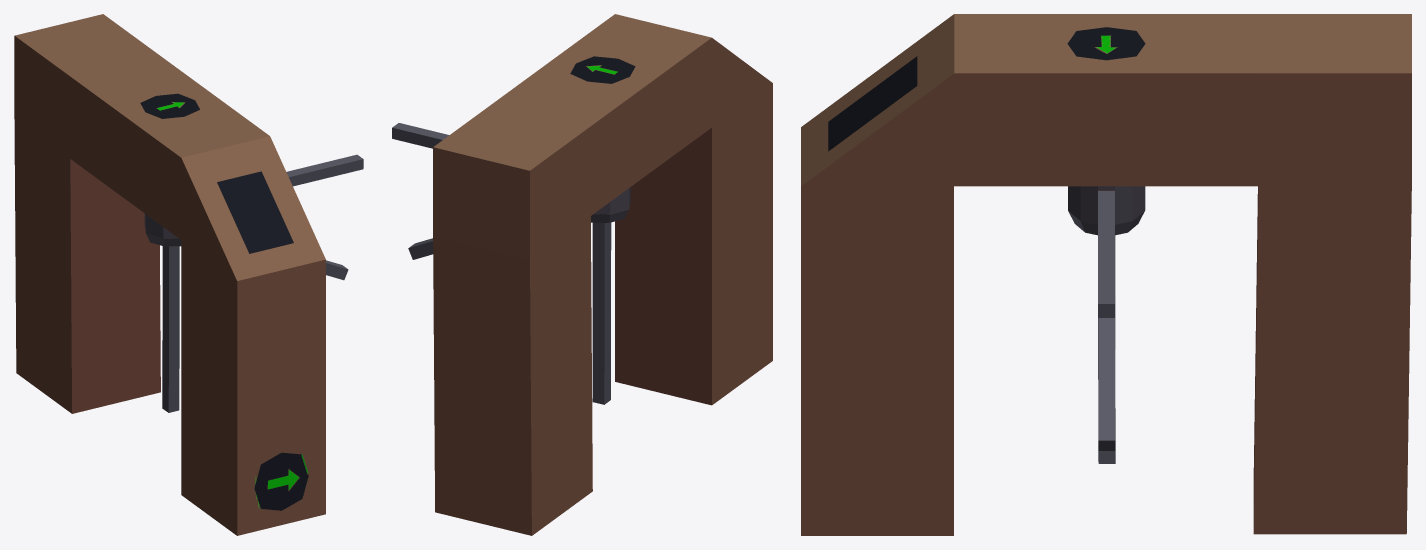
File: Portal.fbx
The picture shows the model from 3 angles, left to right: view 1: azimuth 30°, elevation 25°; view 2: azimuth 150°, elevation 25°; view 3: azimuth 270°, elevation 25°; orthographic projection. The views are drawn at different scales.
Visible parts, largest first — view 1: Cube; view 2: Cube; view 3: Cube.
Boxes of the visible parts, x1,y1,x2,y2 form: Cube: (14,14,363,535); Cube: (392,14,772,535); Cube: (801,14,1411,535).
Size of the model in its own units: 146 by 201 by 240.
